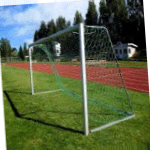goals: (27, 23, 136, 138)
